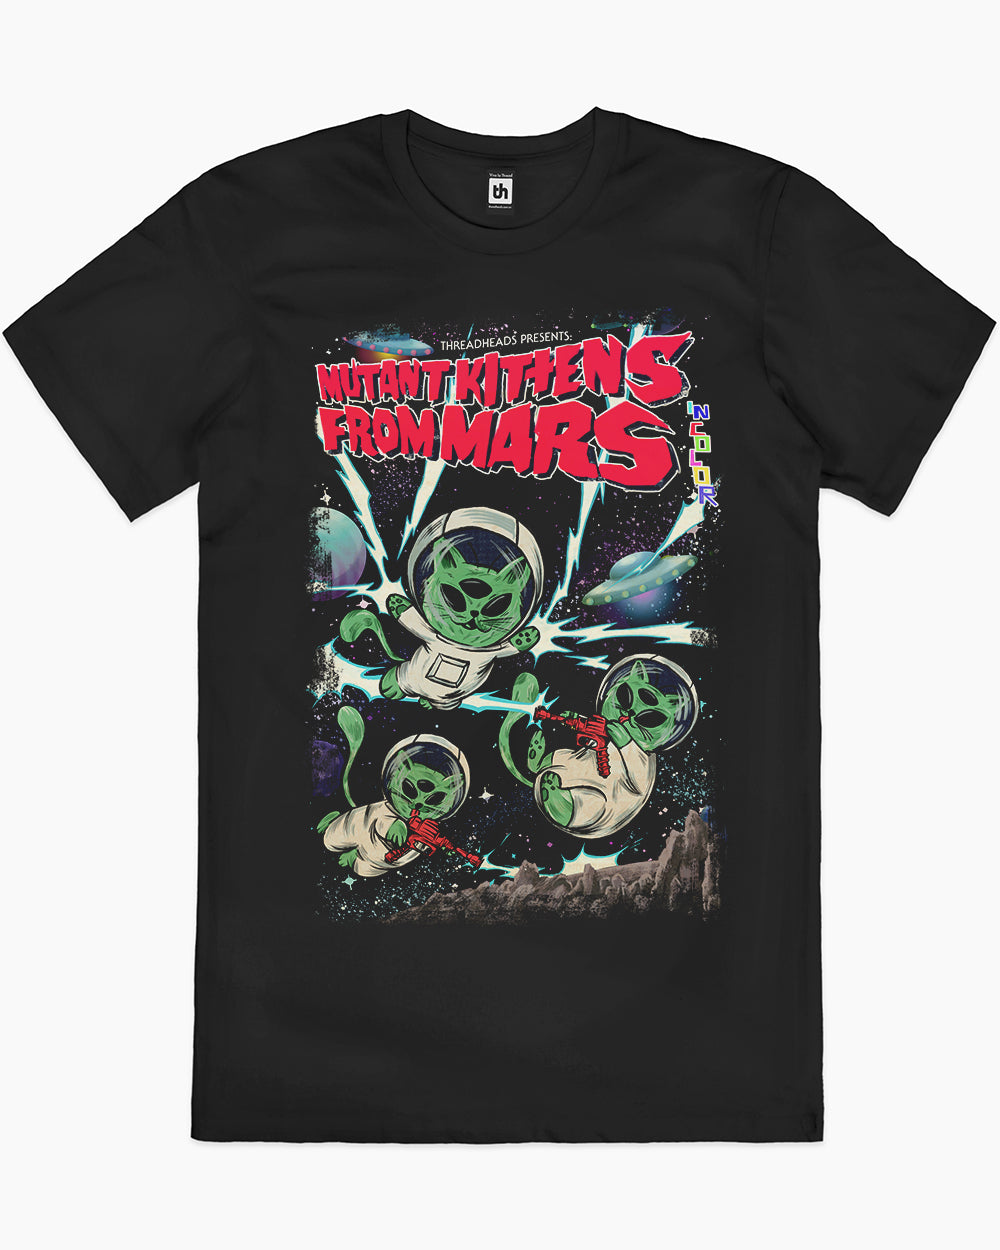design: (303, 317, 727, 932)
